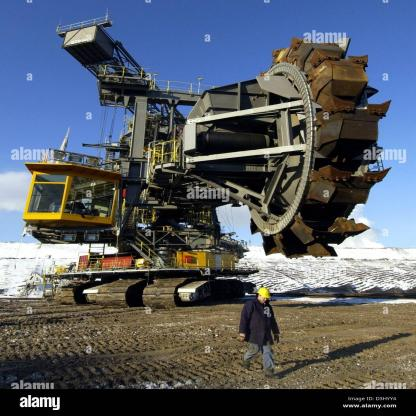person: (230, 280, 296, 382)
